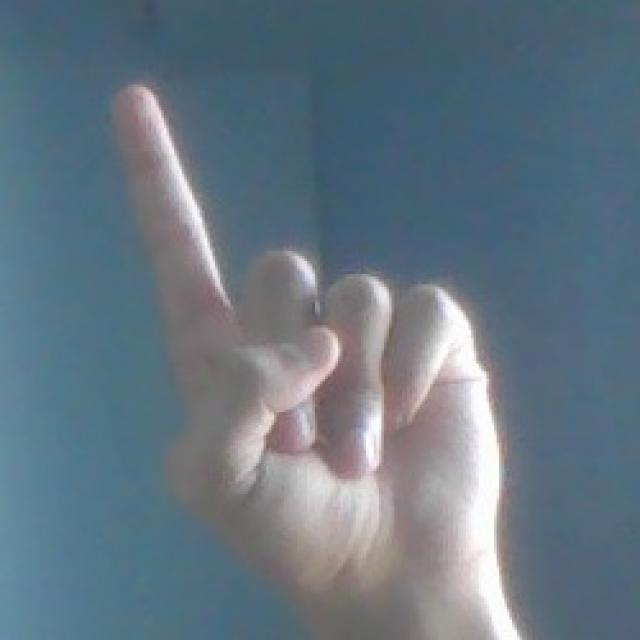Numeric-1: (106, 79, 490, 578)
